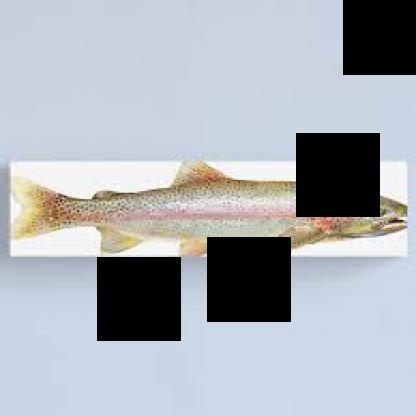fish: (8, 160, 407, 254)
